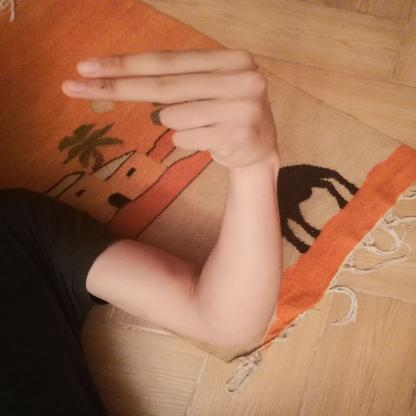AYN: (47, 35, 288, 176)
